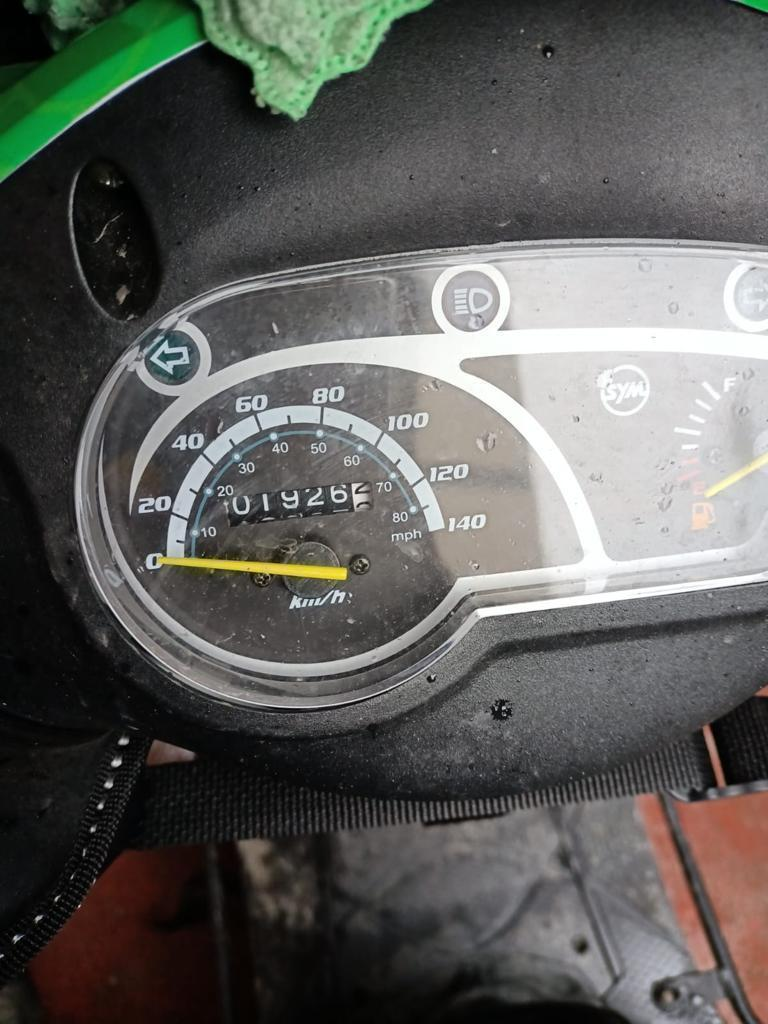0: (232, 495, 252, 518), (225, 483, 233, 495)
1: (259, 487, 272, 515)
2: (304, 485, 325, 508), (354, 480, 372, 497)
6: (329, 483, 349, 505)
9: (277, 485, 301, 511)
odometer: (225, 480, 377, 528)
